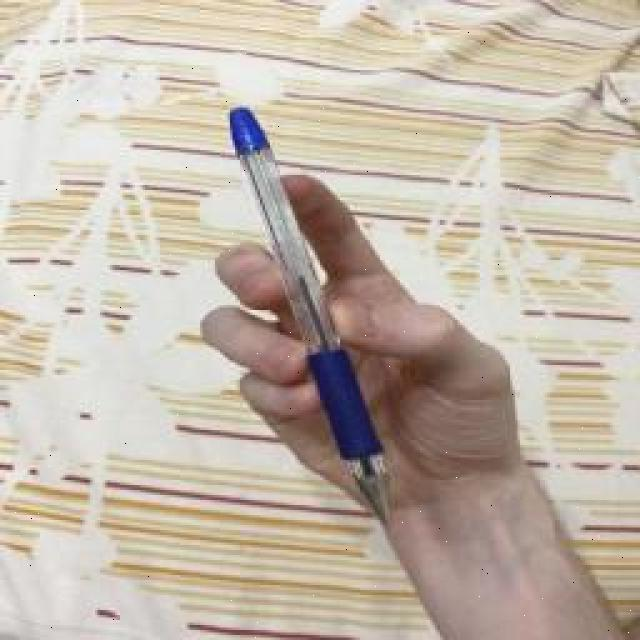pen: (225, 105, 395, 530)
